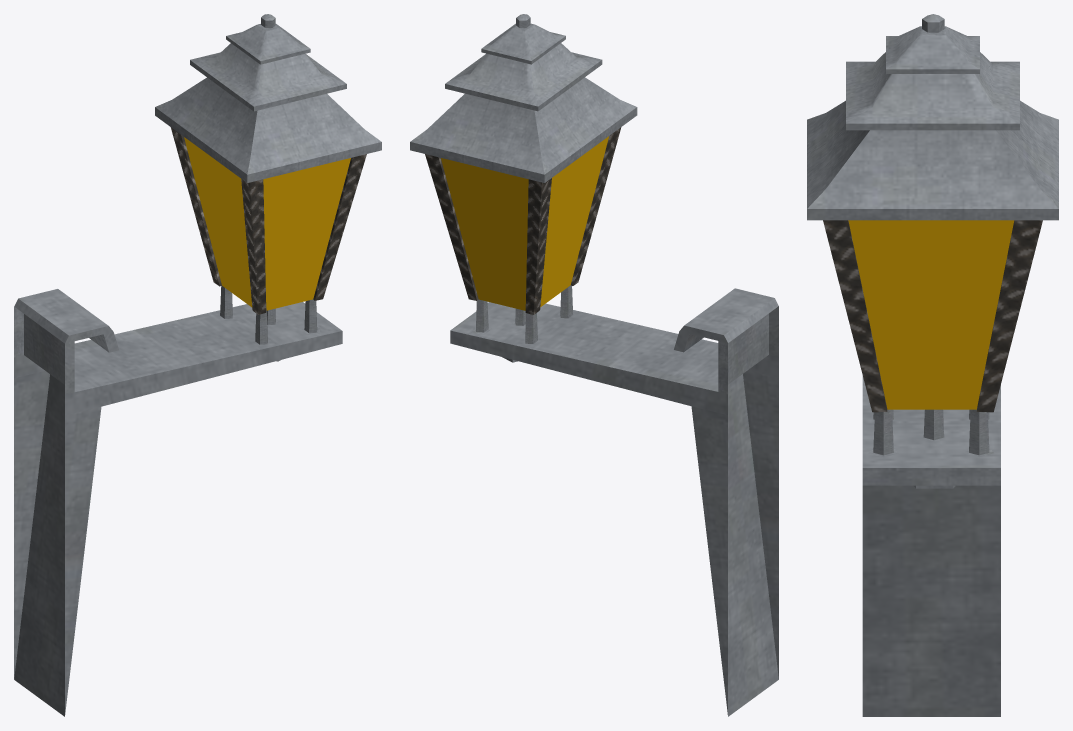
The model's file is Wall Light.fbx.
3 views of the same model, side by side, from view 1: azimuth 30°, elevation 25°; view 2: azimuth 150°, elevation 25°; view 3: azimuth 270°, elevation 25° (orthographic). The views are drawn at different scales.
Visible parts, largest first — view 1: Box005; view 2: Box005; view 3: Box005.
Part boxes in pixels (<box>): Box005: <box>14,14,381,716</box>; Box005: <box>410,14,778,716</box>; Box005: <box>807,14,1058,716</box>.
Size of the model in its own units: 60.97 by 123 by 32.92.
Materials: 2 (1 with a texture image).
